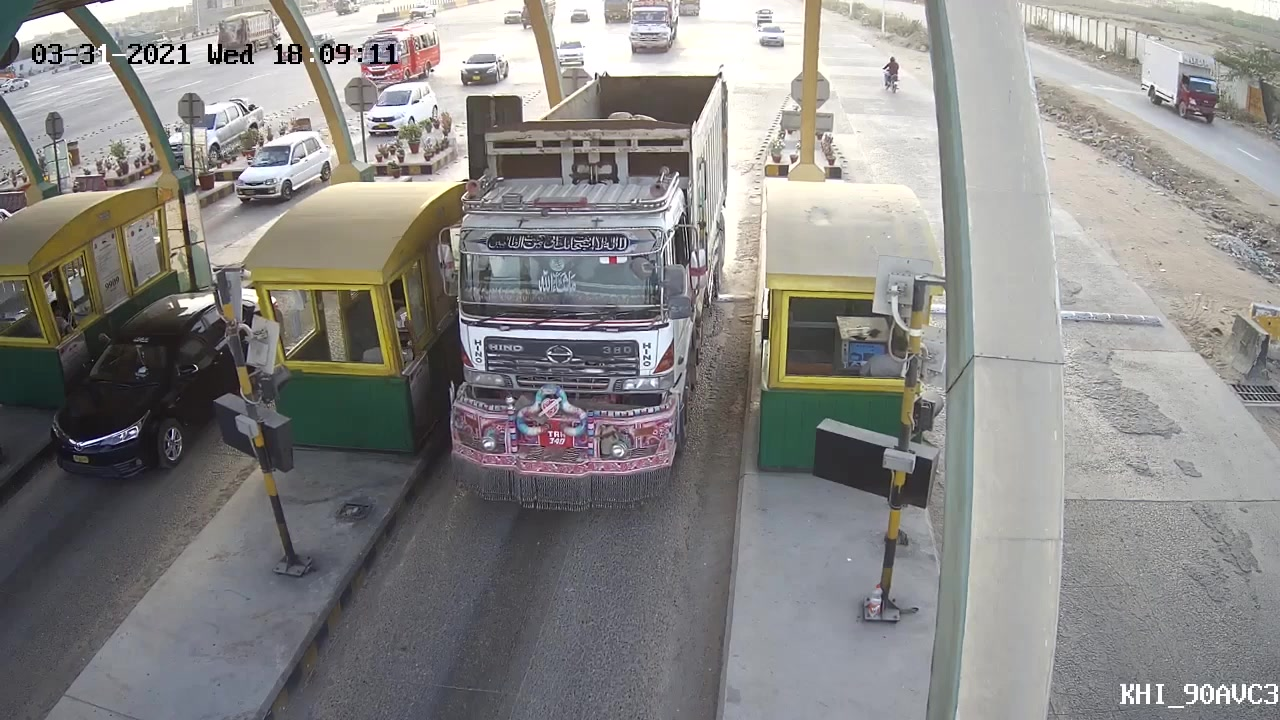F5: (432, 65, 737, 496)
